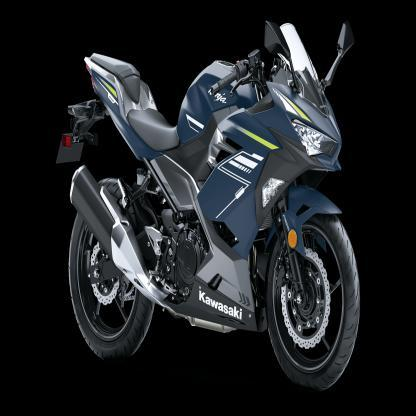Motorcycle: (59, 17, 363, 395)
